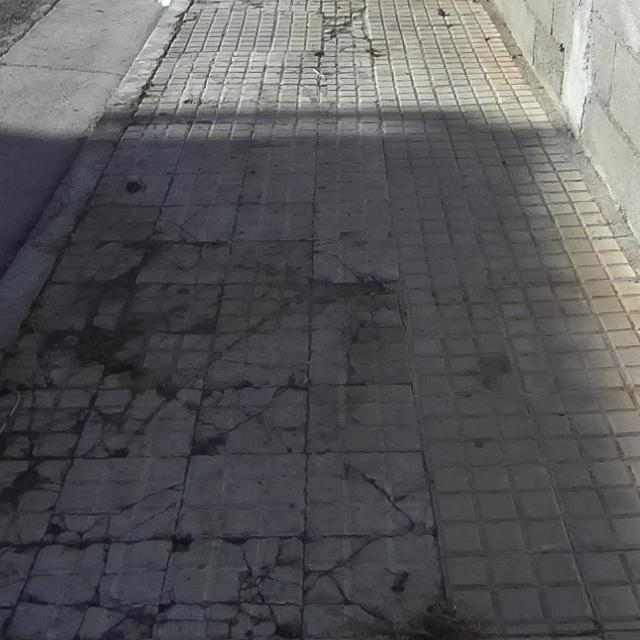calcada_quebrada: (82, 385, 177, 459), (15, 594, 152, 640), (304, 533, 379, 603), (156, 603, 285, 640), (233, 535, 299, 601), (117, 482, 181, 541), (192, 406, 268, 455), (362, 472, 417, 531), (314, 248, 378, 285), (95, 511, 115, 591), (43, 512, 88, 545), (156, 208, 201, 241), (345, 326, 363, 384), (0, 569, 56, 586), (24, 389, 35, 459)
